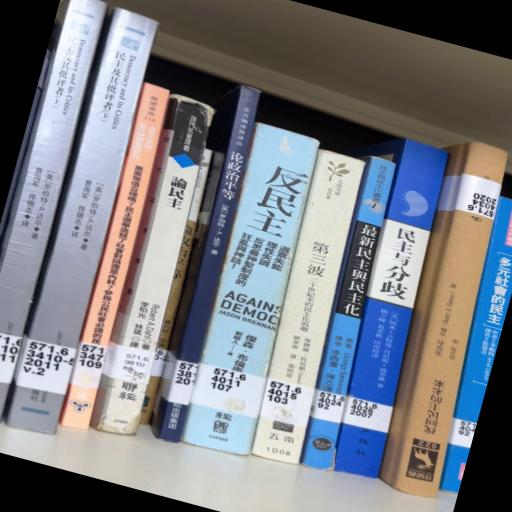book: (4, 9, 158, 434), (181, 123, 319, 455), (1, 1, 107, 421), (91, 95, 214, 435), (152, 87, 260, 443), (336, 140, 448, 477), (60, 84, 169, 429), (251, 151, 366, 464), (300, 157, 395, 470), (439, 197, 512, 493)
reverse: (380, 143, 508, 498)
